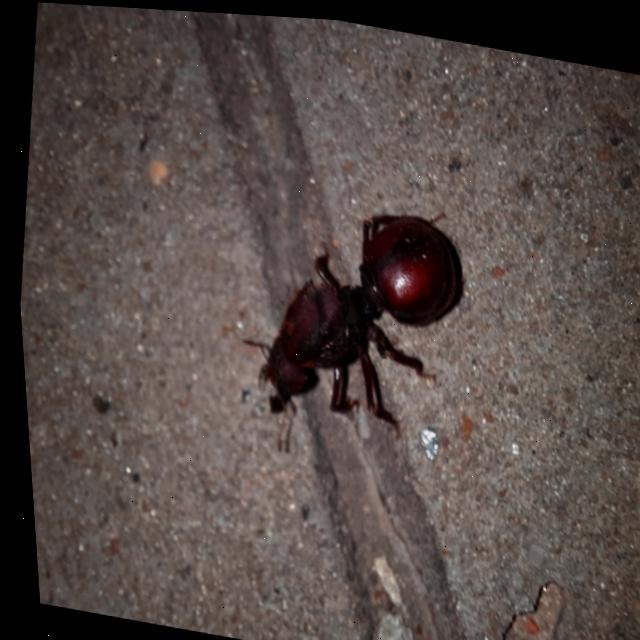Alive-Female-Dealate: (216, 183, 470, 478)
